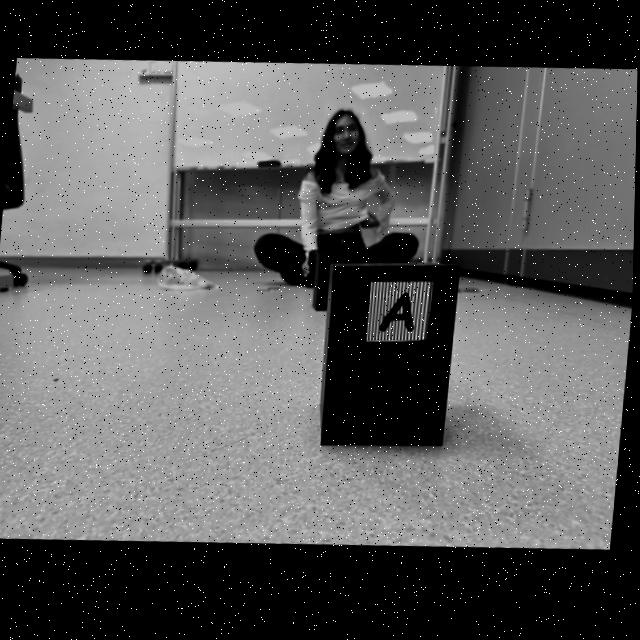A: (381, 296, 413, 335)
